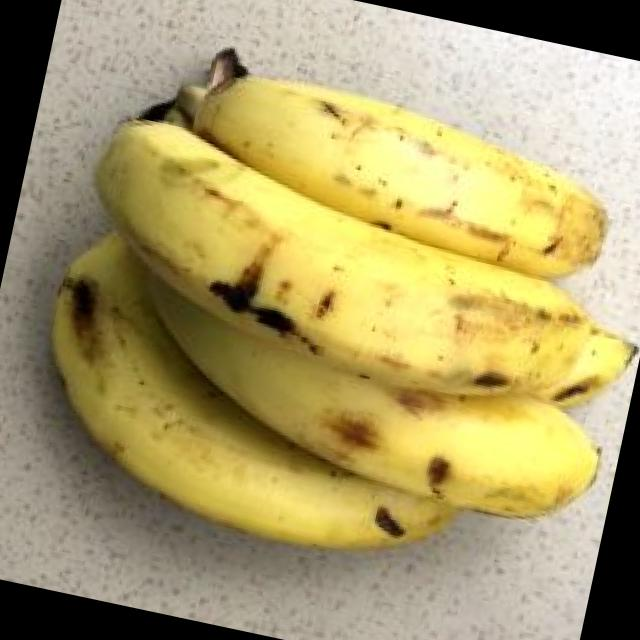banana: (116, 77, 592, 638)
